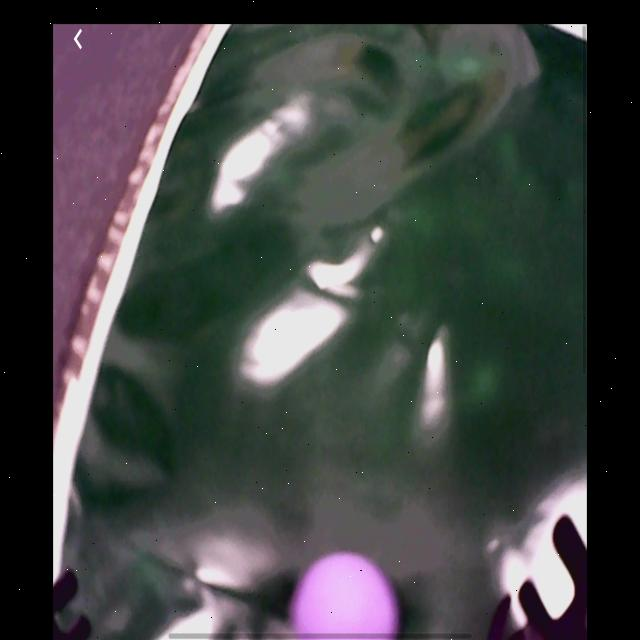ball: (288, 553, 401, 640)
